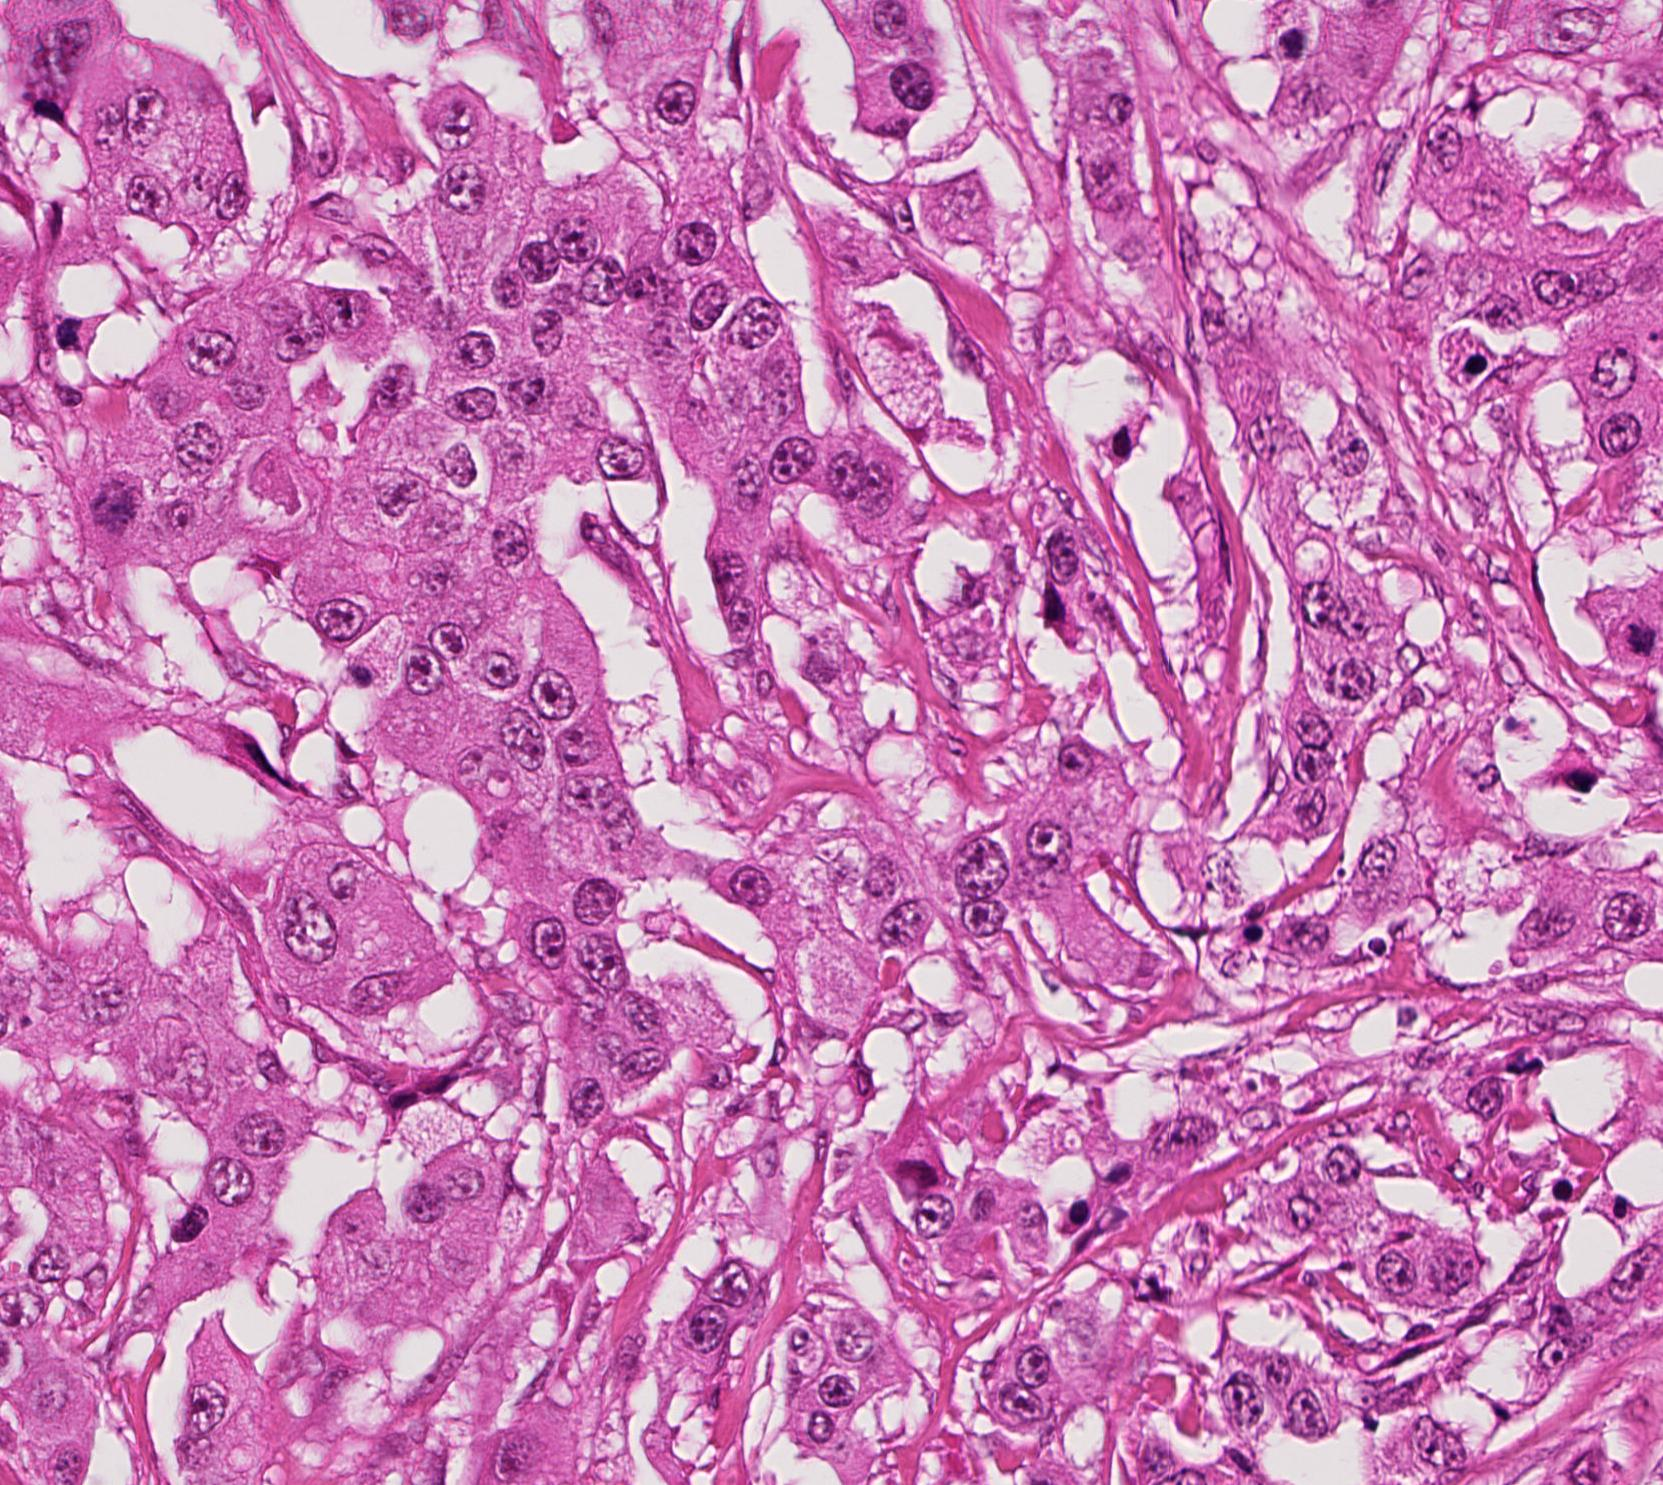mitosis: (1264, 14, 1325, 75), (1609, 608, 1663, 668)
